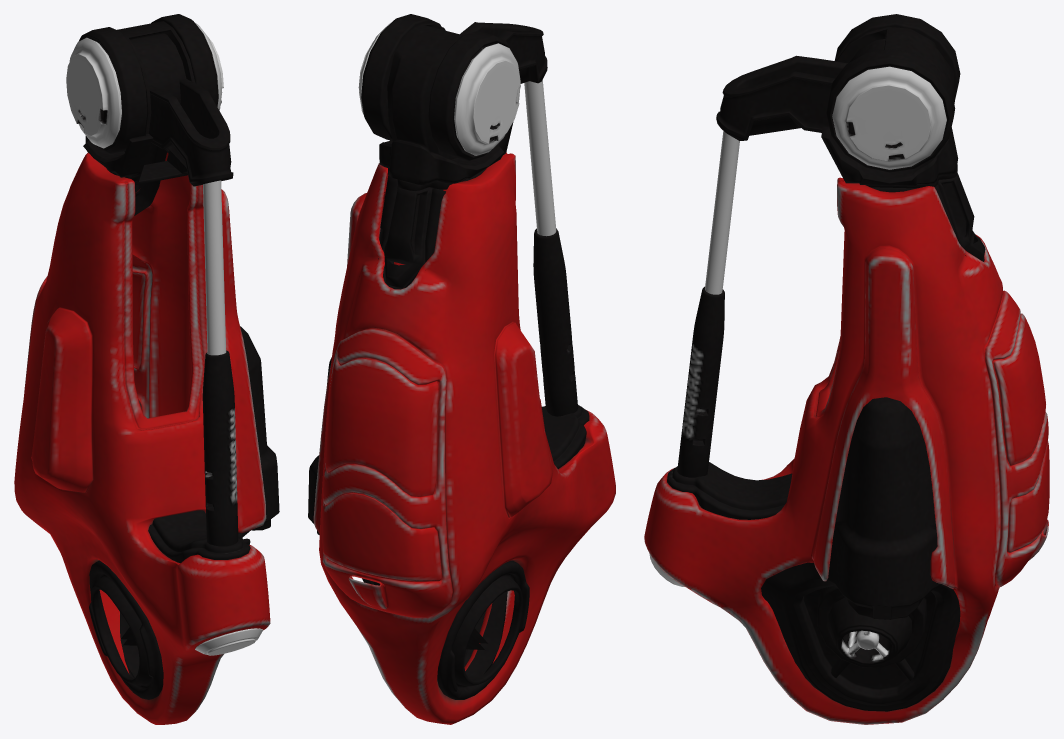
File: rightThigh.glb
The picture shows the model from 3 angles, left to right: view 1: azimuth 30°, elevation 25°; view 2: azimuth 150°, elevation 25°; view 3: azimuth 270°, elevation 25°; orthographic projection. The views are drawn at different scales.
Visible parts, largest first — view 1: polySurface398_LegsMat_0.001, polySurface394_LegsMat_0, polySurface396_LegsMat_0, polySurface402_LegsMat_0, polySurface395_LegsMat_0, polySurface407_LegsMat_0, polySurface397_LegsMat_0, polySurface406_LegsMat_0, polySurface405_LegsMat_0, polySurface404_LegsMat_0; view 2: polySurface398_LegsMat_0.001, polySurface395_LegsMat_0, polySurface394_LegsMat_0, polySurface402_LegsMat_0, polySurface407_LegsMat_0, polySurface397_LegsMat_0, polySurface406_LegsMat_0, polySurface396_LegsMat_0, polySurface405_LegsMat_0; view 3: polySurface398_LegsMat_0.001, polySurface406_LegsMat_0, polySurface394_LegsMat_0, polySurface395_LegsMat_0, polySurface396_LegsMat_0, polySurface402_LegsMat_0, polySurface405_LegsMat_0, polySurface397_LegsMat_0.
Part boxes in pixels (x1,y1,x2,y2): polySurface398_LegsMat_0.001: (14, 152, 270, 724); polySurface394_LegsMat_0: (66, 14, 223, 153); polySurface396_LegsMat_0: (149, 79, 233, 186); polySurface402_LegsMat_0: (202, 350, 238, 546); polySurface395_LegsMat_0: (83, 21, 195, 215); polySurface407_LegsMat_0: (89, 560, 163, 699); polySurface397_LegsMat_0: (203, 180, 226, 355); polySurface406_LegsMat_0: (120, 326, 279, 678); polySurface405_LegsMat_0: (148, 510, 250, 562); polySurface404_LegsMat_0: (195, 628, 262, 655); polySurface398_LegsMat_0.001: (313, 152, 615, 724); polySurface395_LegsMat_0: (378, 22, 513, 289); polySurface394_LegsMat_0: (358, 14, 520, 160); polySurface402_LegsMat_0: (533, 228, 577, 416); polySurface407_LegsMat_0: (437, 560, 529, 699); polySurface397_LegsMat_0: (524, 80, 556, 236); polySurface406_LegsMat_0: (308, 357, 507, 679); polySurface396_LegsMat_0: (460, 22, 547, 83); polySurface405_LegsMat_0: (541, 405, 589, 468); polySurface398_LegsMat_0.001: (644, 177, 1049, 724); polySurface406_LegsMat_0: (761, 397, 960, 711); polySurface394_LegsMat_0: (826, 14, 960, 172); polySurface395_LegsMat_0: (821, 27, 985, 261); polySurface396_LegsMat_0: (716, 55, 847, 140); polySurface402_LegsMat_0: (677, 286, 724, 477); polySurface405_LegsMat_0: (667, 462, 792, 519); polySurface397_LegsMat_0: (705, 131, 739, 294).
Size of the model in its own units: 0.4961 by 1.42 by 0.7537.
Materials: 2 (2 with a texture image).
